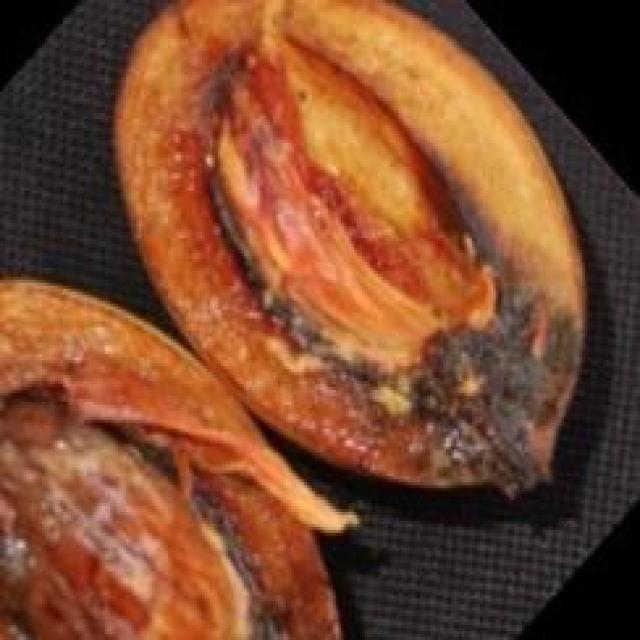damaged: (113, 0, 588, 503), (0, 277, 357, 637)
